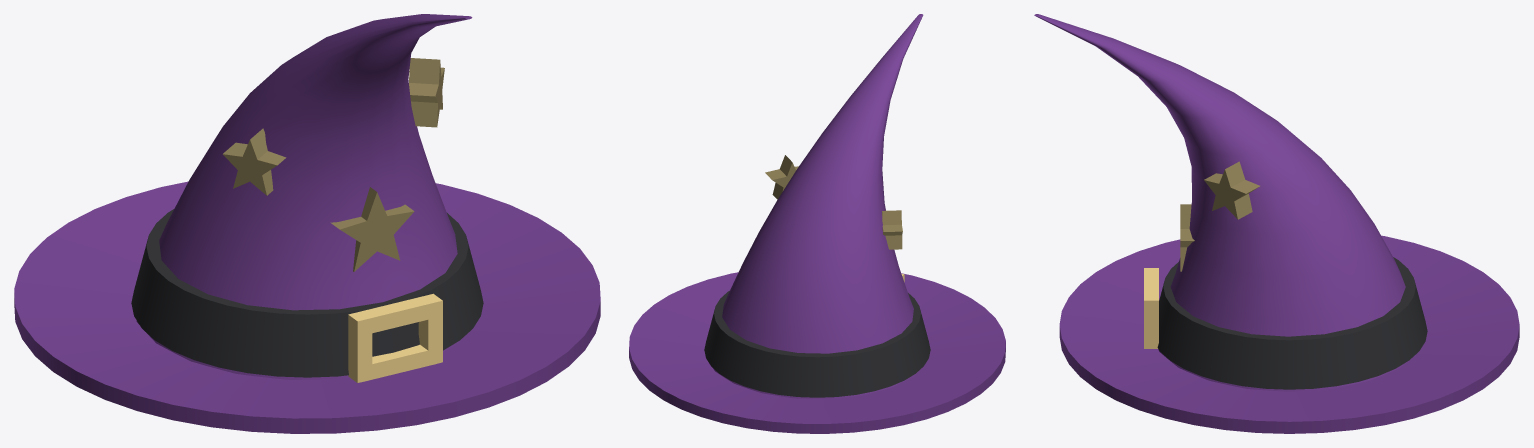
Rendered from top_wizardhat.fbx.
The picture shows the model from 3 angles, left to right: view 1: azimuth 30°, elevation 25°; view 2: azimuth 150°, elevation 25°; view 3: azimuth 270°, elevation 25°; orthographic projection. The views are drawn at different scales.
Parts seen in each view (by area): view 1: purple_1, dark_1, glow_gold_1, gold_1; view 2: purple_1, dark_1, glow_gold_1; view 3: purple_1, dark_1, glow_gold_1, gold_1.
Boxes of the visible parts, box(x1,y1,x2,y2) form: purple_1: box(14, 14, 600, 433); dark_1: box(131, 209, 483, 377); glow_gold_1: box(223, 58, 444, 271); gold_1: box(348, 293, 442, 382); purple_1: box(629, 14, 1005, 433); dark_1: box(704, 290, 930, 397); glow_gold_1: box(765, 155, 902, 249); purple_1: box(1034, 14, 1519, 433); dark_1: box(1157, 257, 1427, 389); glow_gold_1: box(1180, 161, 1260, 271); gold_1: box(1144, 268, 1158, 348).
Size of the model in its own units: 0.0572 by 0.0474 by 0.0604.
